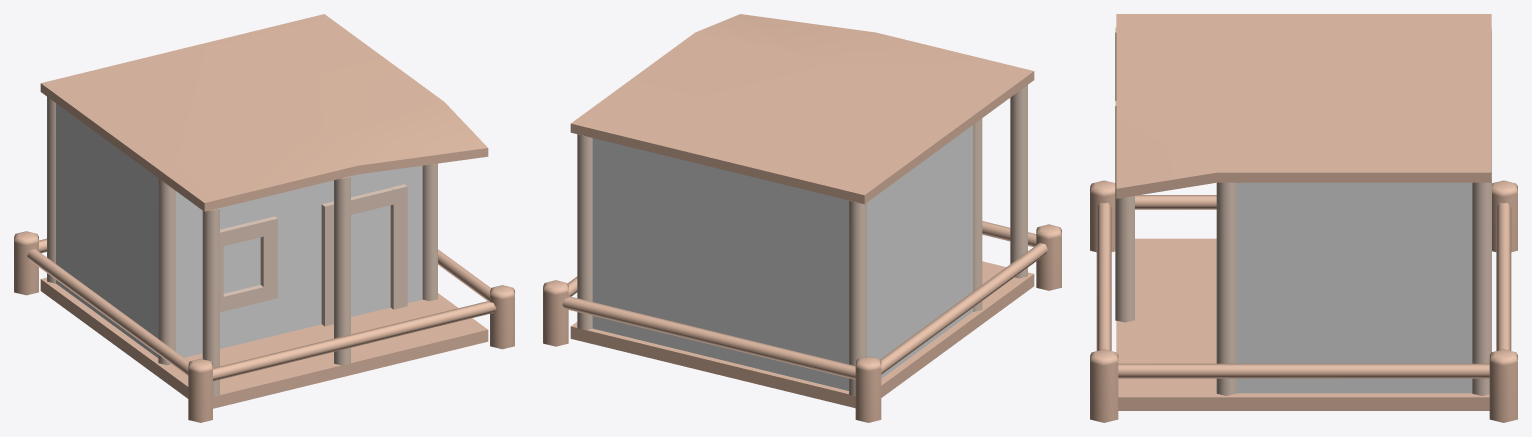
The model's file is House.fbx.
The picture shows the model from 3 angles, left to right: view 1: azimuth 30°, elevation 25°; view 2: azimuth 150°, elevation 25°; view 3: azimuth 270°, elevation 25°; orthographic projection. The views are drawn at different scales.
Parts seen in each view (by area): view 1: rooftop, wall_1, wall_2, base, pole_2, piller_1, v_piller_2, v_piller_1, pole_1, piller_2, door_3, door_1 (+9 smaller); view 2: rooftop, wall_4, wall_2, base, pole_4, v_piller_1, piller_3, piller_4, pole_1, piller_1, stake_3, stake_4 (+2 smaller); view 3: rooftop, wall_3, base, pole_3, piller_2, piller_4, v_piller_2, pole_2, pole_4, stake_4, stake_2, pole_1 (+2 smaller).
Boxes of the visible parts, x1=… form: rooftop: x1=40, y1=14, x2=488, y2=211; wall_1: x1=175, y1=165, x2=422, y2=357; wall_2: x1=56, y1=103, x2=158, y2=357; base: x1=40, y1=277, x2=488, y2=408; pole_2: x1=213, y1=300, x2=496, y2=381; piller_1: x1=158, y1=178, x2=175, y2=365; v_piller_2: x1=334, y1=176, x2=350, y2=365; v_piller_1: x1=202, y1=208, x2=219, y2=397; pole_1: x1=27, y1=249, x2=189, y2=375; piller_2: x1=422, y1=163, x2=437, y2=301; door_3: x1=390, y1=184, x2=407, y2=309; door_1: x1=321, y1=201, x2=333, y2=326; rooftop: x1=570, y1=14, x2=1034, y2=204; wall_4: x1=592, y1=138, x2=848, y2=390; wall_2: x1=867, y1=125, x2=972, y2=378; base: x1=570, y1=261, x2=1034, y2=408; pole_4: x1=562, y1=296, x2=855, y2=379; v_piller_1: x1=1010, y1=85, x2=1027, y2=278; piller_3: x1=849, y1=200, x2=866, y2=395; piller_4: x1=577, y1=134, x2=592, y2=330; pole_1: x1=880, y1=243, x2=1048, y2=374; piller_1: x1=973, y1=118, x2=982, y2=311; stake_3: x1=855, y1=356, x2=881, y2=422; stake_4: x1=543, y1=280, x2=568, y2=346; rooftop: x1=1116, y1=14, x2=1491, y2=198; wall_3: x1=1236, y1=182, x2=1472, y2=393; base: x1=1116, y1=238, x2=1489, y2=410; pole_3: x1=1118, y1=363, x2=1489, y2=378; piller_2: x1=1216, y1=182, x2=1236, y2=395; piller_4: x1=1472, y1=174, x2=1491, y2=395; v_piller_2: x1=1115, y1=101, x2=1134, y2=322; pole_2: x1=1096, y1=202, x2=1111, y2=350; pole_4: x1=1496, y1=202, x2=1511, y2=350; stake_4: x1=1489, y1=349, x2=1517, y2=422; stake_2: x1=1090, y1=349, x2=1118, y2=422; pole_1: x1=1135, y1=195, x2=1216, y2=209.
Bounding box in the file's own units: 10.82 × 6.58 × 10.71.
